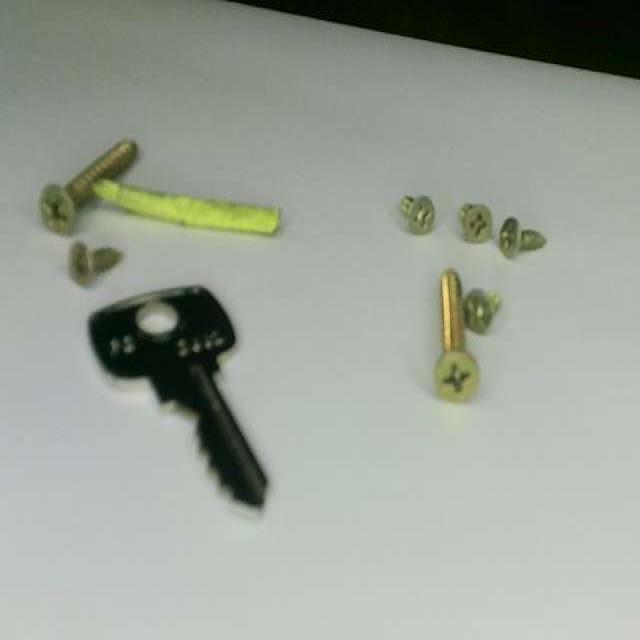Parafuso: (39, 139, 137, 231), (435, 272, 477, 403), (70, 243, 123, 285), (497, 217, 543, 258), (464, 292, 500, 336), (459, 200, 492, 239), (400, 195, 433, 231)
